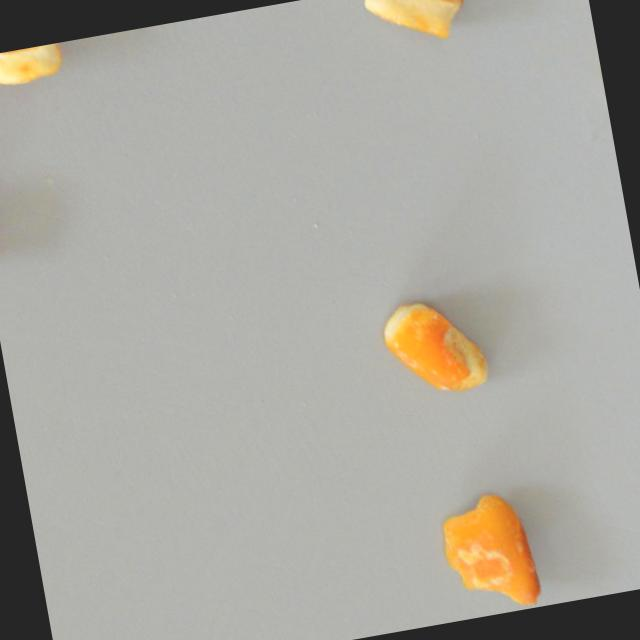dañado: (430, 482, 552, 622), (375, 285, 497, 408), (360, 0, 472, 54), (0, 40, 73, 96)
